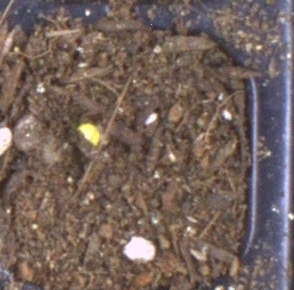chilli seed: (77, 123, 101, 146)
